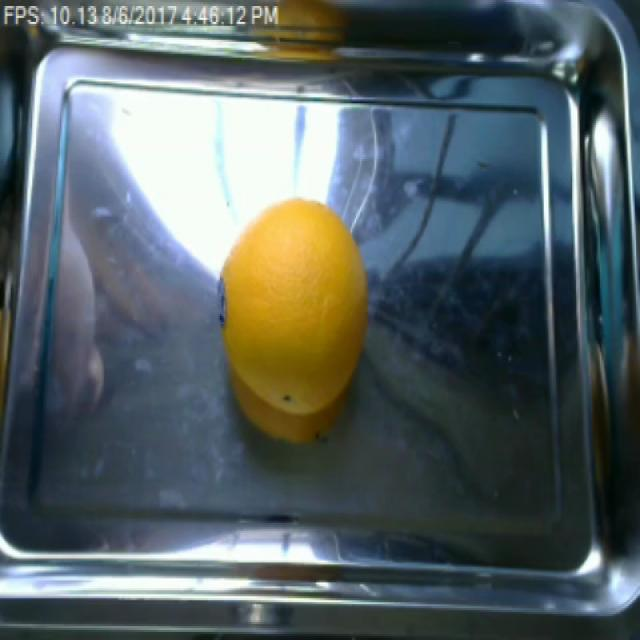Fruit: (216, 191, 372, 445)
